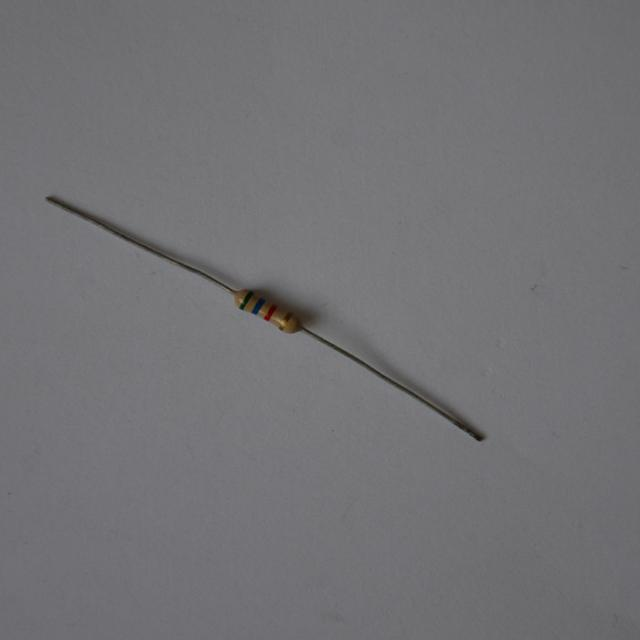blue: (251, 298, 264, 314)
gold: (278, 311, 291, 328)
green: (239, 290, 253, 308)
red: (263, 304, 276, 320)
resistor: (230, 274, 307, 347)
